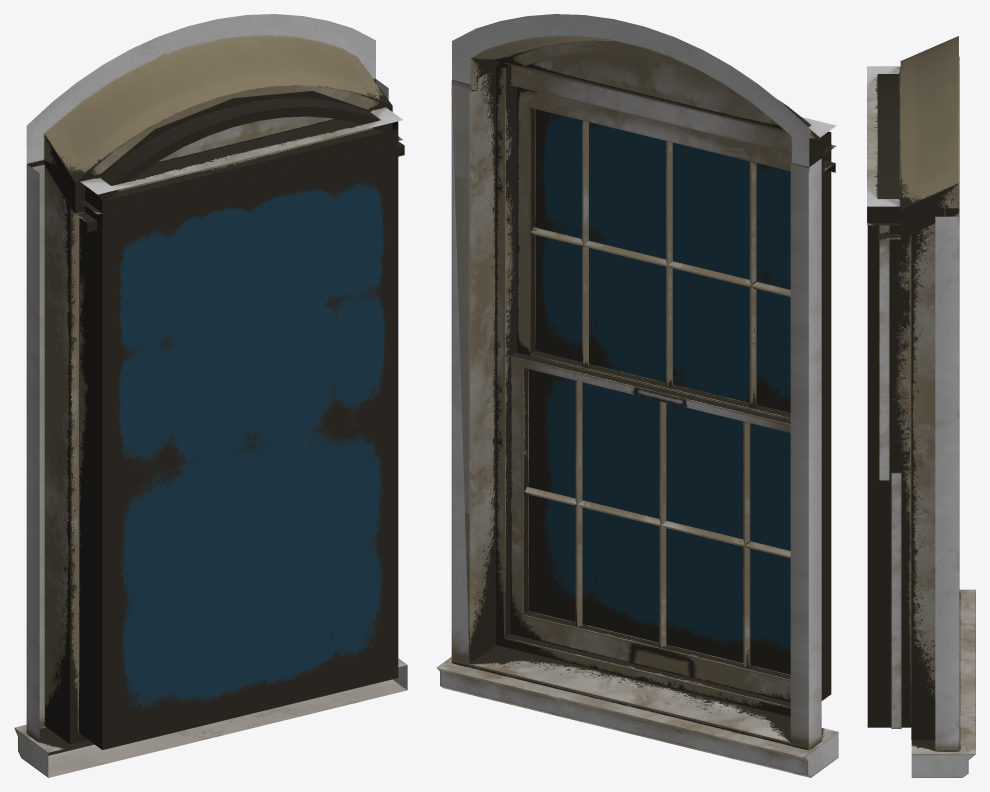
3 renders of one model, left to right at view 1: azimuth 30°, elevation 25°; view 2: azimuth 150°, elevation 25°; view 3: azimuth 270°, elevation 25°, orthographic. The views are drawn at different scales.
Visible parts, largest first — view 1: wooden_window; view 2: wooden_window; view 3: wooden_window.
Boxes of the visible parts, box(x1,y1,x2,y2) form: wooden_window: box(14, 14, 407, 777); wooden_window: box(436, 14, 838, 777); wooden_window: box(867, 36, 975, 777).
Bounding box in the file's own units: 1.01 × 1.86 × 0.2812.
1 material, 1 textured.
